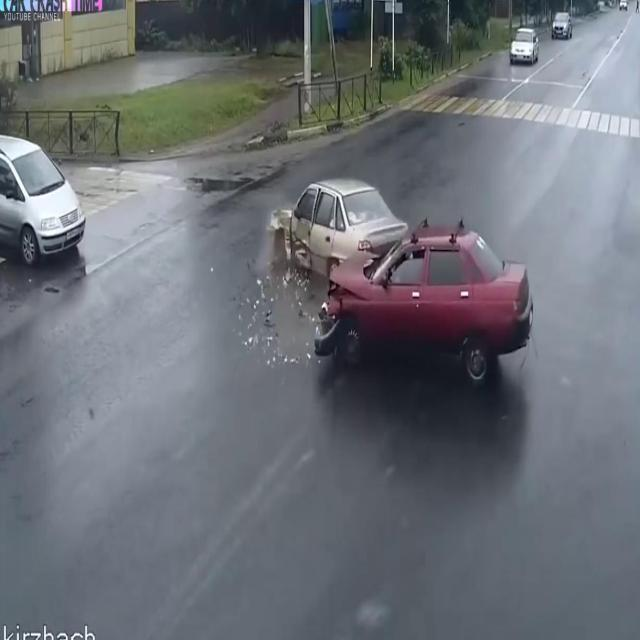accident: (239, 168, 539, 407)
